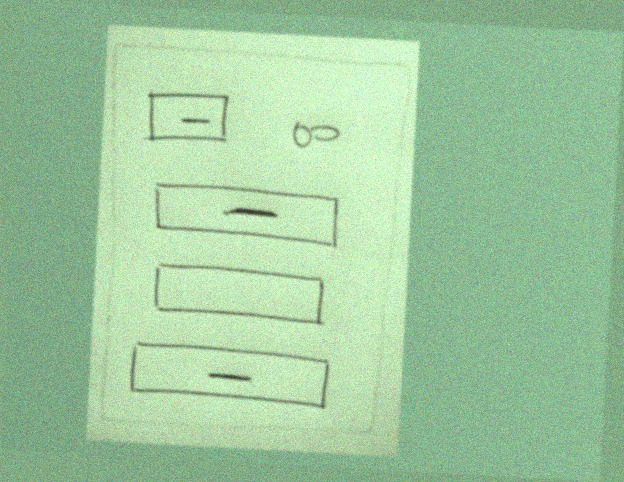button: (123, 336, 337, 418), (147, 176, 344, 253), (140, 87, 236, 150)
switch: (283, 113, 345, 159)
text_input: (144, 255, 334, 333)
